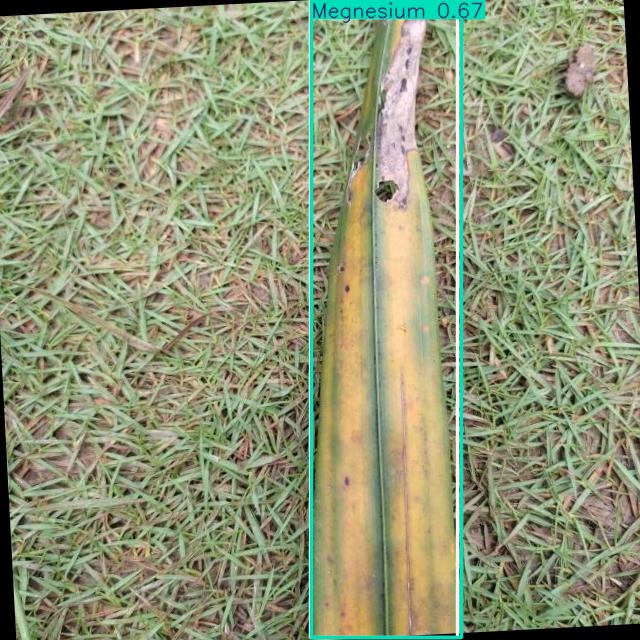Kalium: (311, 0, 458, 638)
Megnesium: (311, 0, 462, 637)
